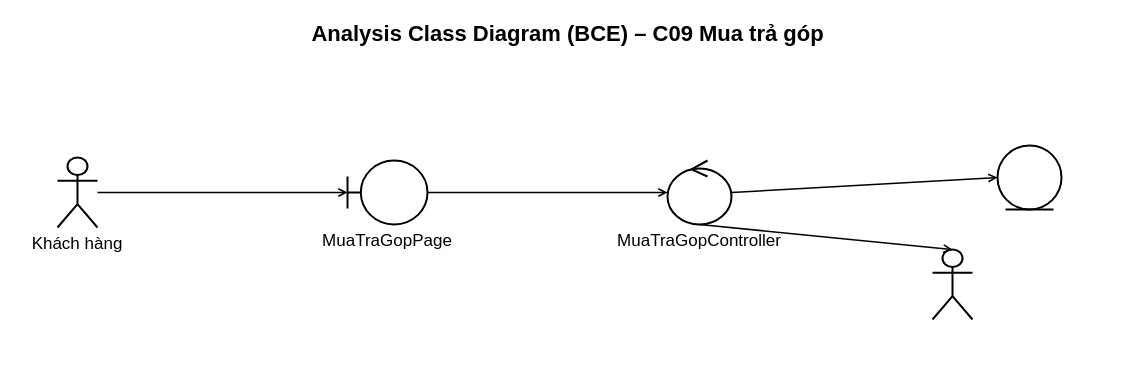
This 1134x384 diagram has some shape labels left out. The shapes that lost their labels are listed below. From the top down, each one's box as (x1, y1, x2, y2) in pixels, then its label:
(996, 144, 1062, 210): KeHoachTraGop
(931, 248, 973, 320): Đối tác tài chính (MoMo, ngân hàng phát hành thẻ)
